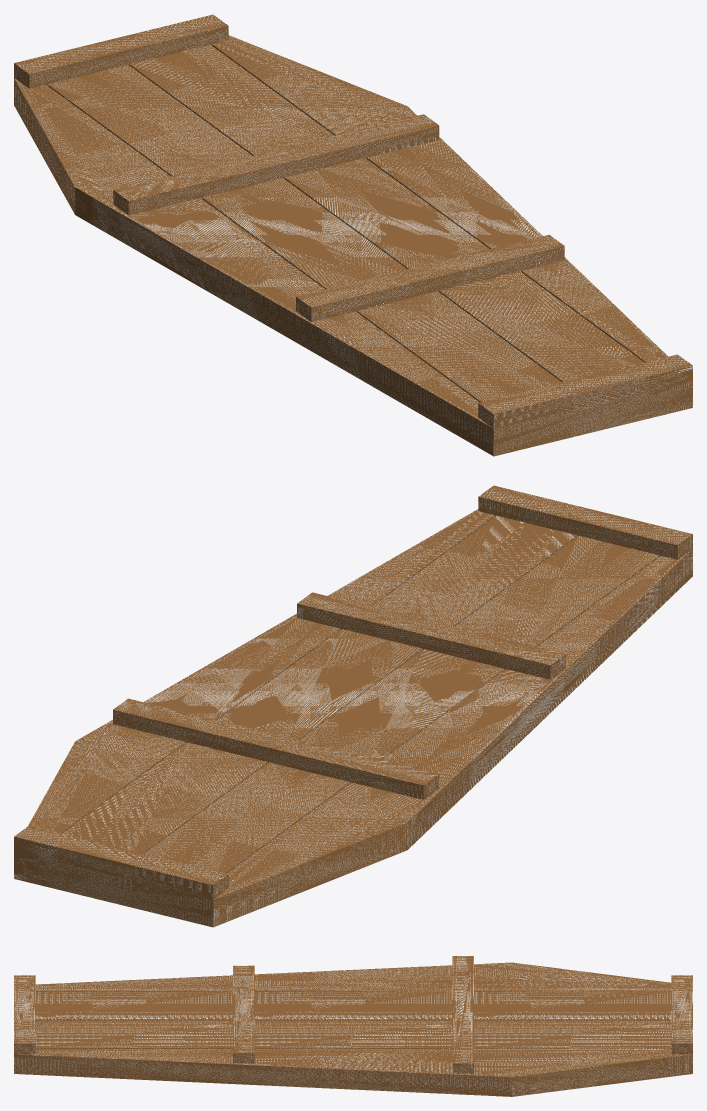
File: Graveyard_Casket_Wooden_Lid_01.fbx
3 renders of one model, top to bottom at view 1: azimuth 30°, elevation 25°; view 2: azimuth 150°, elevation 25°; view 3: azimuth 270°, elevation 25°, orthographic. The views are drawn at different scales.
Parts seen in each view (by area): view 1: Model; view 2: Model; view 3: Model.
Part boxes in pixels (x1=…): Model: x1=14, y1=14, x2=692, y2=456; Model: x1=14, y1=485, x2=692, y2=927; Model: x1=14, y1=956, x2=692, y2=1096.
Size of the model in its own units: 403 by 48.96 by 1007.
